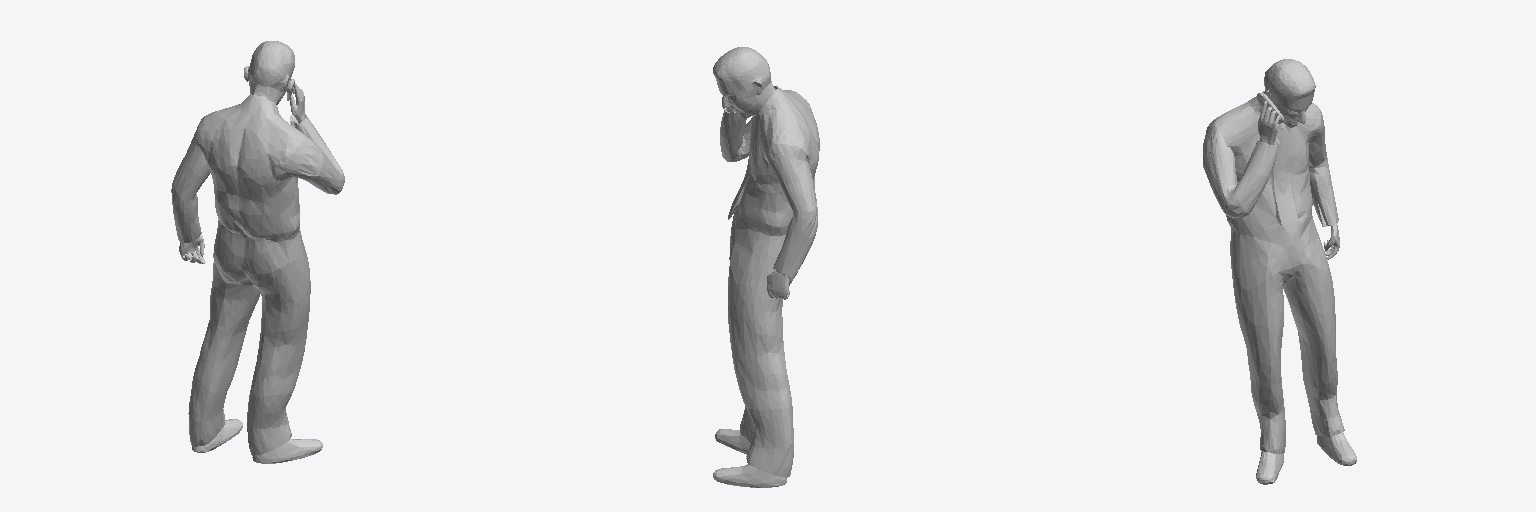
The picture shows the model from 3 angles: view 1: azimuth 30°, elevation 25°; view 2: azimuth 150°, elevation 25°; view 3: azimuth 270°, elevation 25°; orthographic projection.
Parts seen in each view (by area): view 1: 3DGeom_1_Defintion_1_001; view 2: 3DGeom_1_Defintion_1_001; view 3: 3DGeom_1_Defintion_1_001.
Boxes of the visible parts, x1=… form: 3DGeom_1_Defintion_1_001: x1=171, y1=41, x2=344, y2=463; 3DGeom_1_Defintion_1_001: x1=713, y1=47, x2=819, y2=487; 3DGeom_1_Defintion_1_001: x1=1203, y1=59, x2=1356, y2=484.
Size of the model in its own units: 1192 by 3589 by 1231.